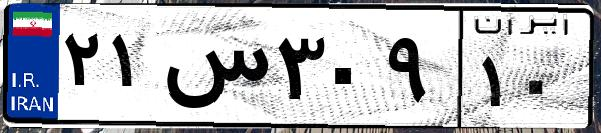0: (330, 28, 385, 110), (525, 38, 570, 115)
1: (475, 38, 525, 113), (110, 28, 158, 98)
2: (57, 26, 110, 100)
3: (270, 28, 330, 110)
9: (385, 28, 445, 110)
س: (158, 20, 270, 120)
